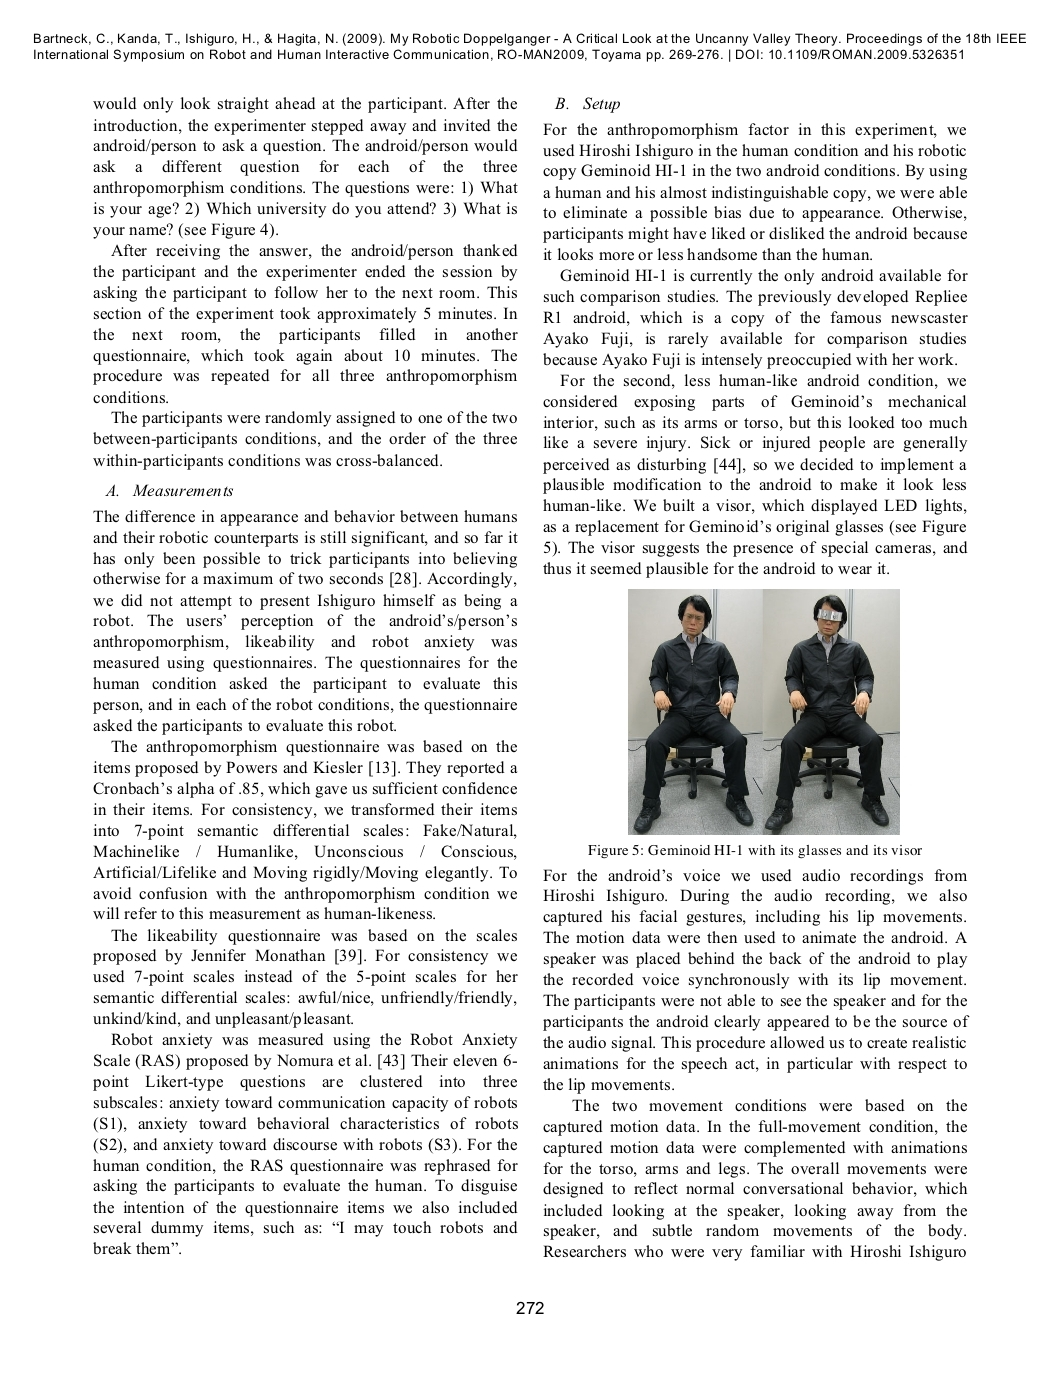figure: (627, 588, 899, 835)
